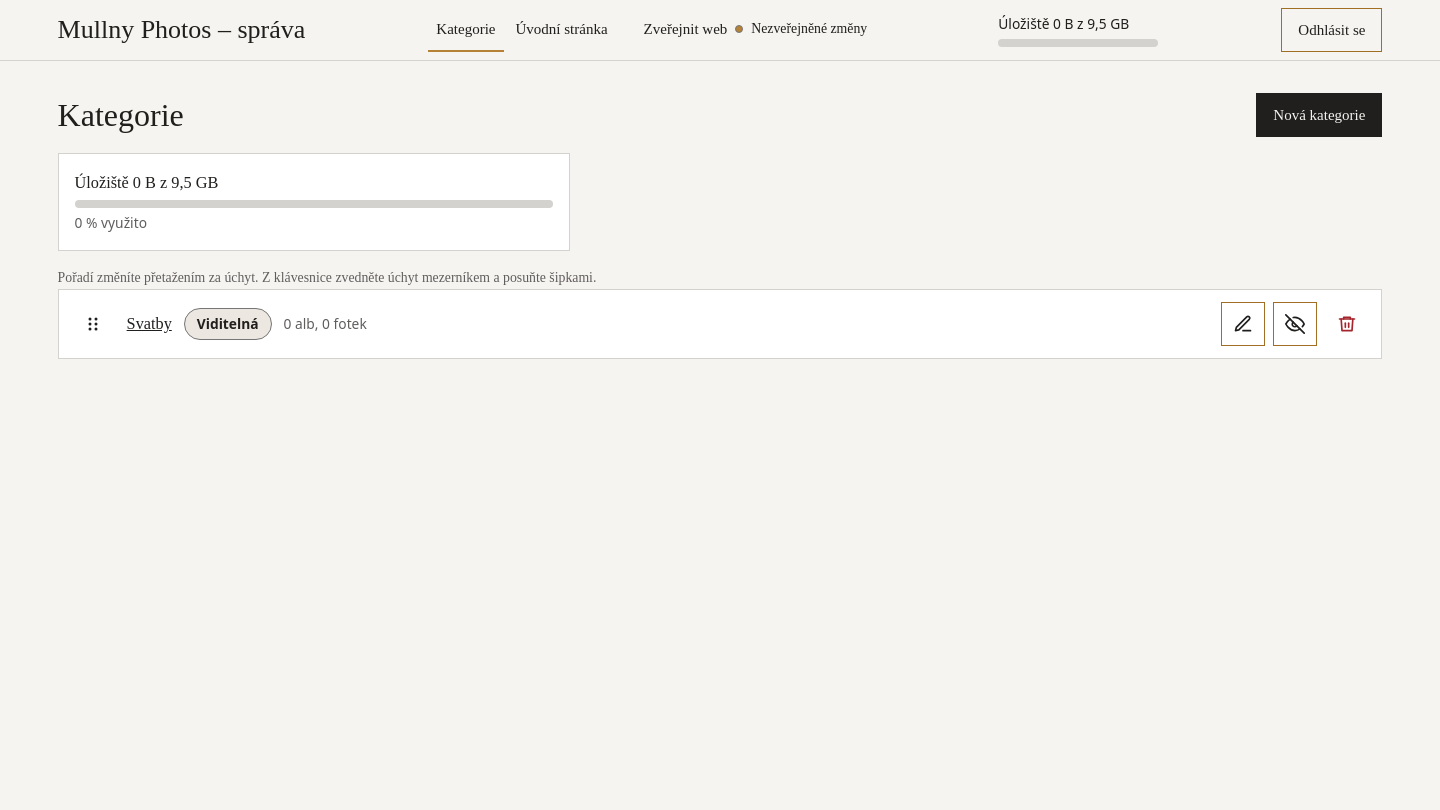
Test: create and edit › edits the name and warns before the address changes
Expected: the heading "Kategorie" is shown, [58, 96, 184, 134]
Expected: the link "Svatby" is shown, [127, 314, 172, 333]
Step 1. Click the button named "Přejmenovat: Svatby" → (1243, 324), box [1221, 302, 1265, 346]
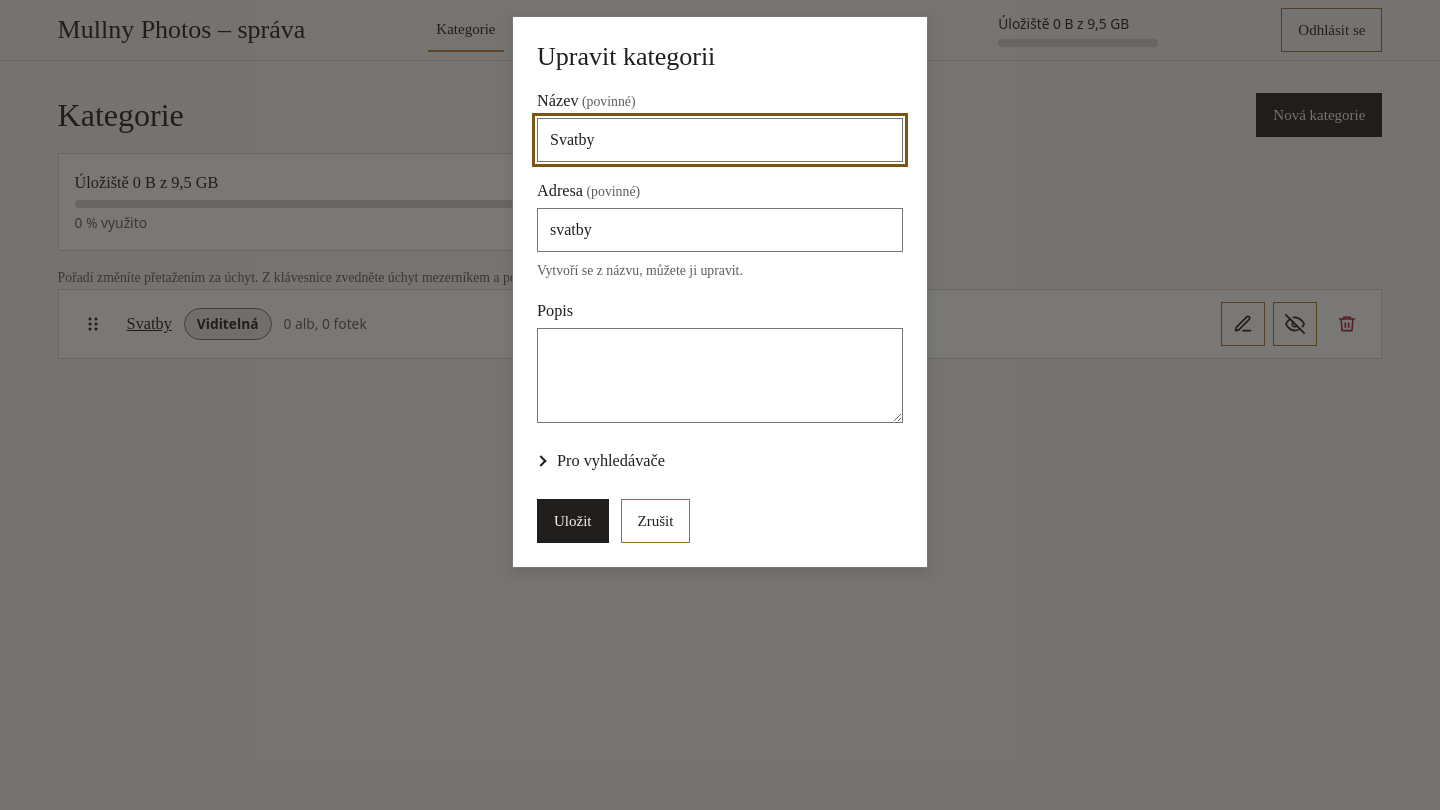
Step 2. Replace the text in the field labelled "Název (povinné)" with "Svatební den" → (720, 140), box [537, 118, 903, 162]
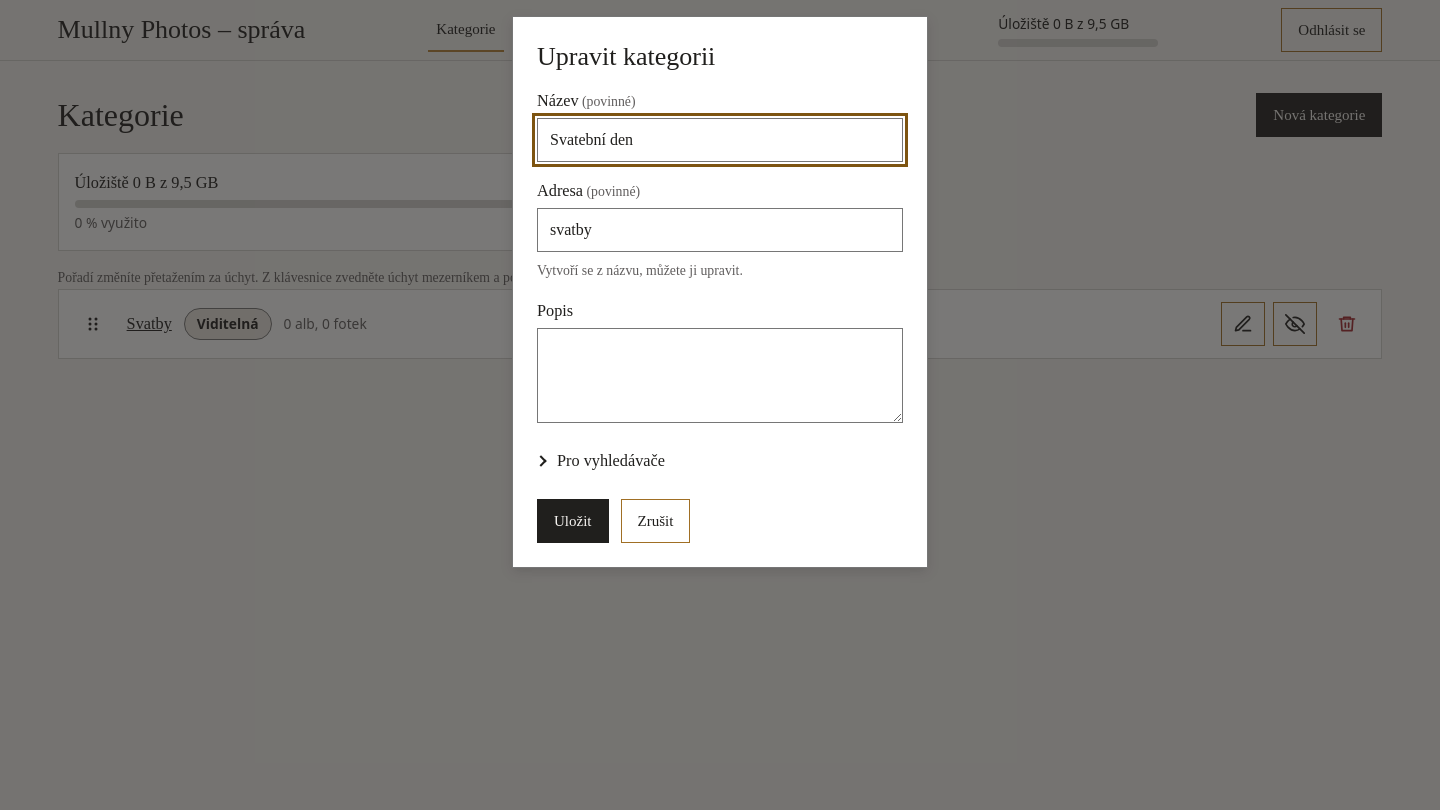
Expected: the text "Změna adresy rozbije stávající odkazy na tuto kategorii a její alba." is not shown
Result: the field labelled "Adresa (povinné)" holds "svatby"
Step 3. Replace the text in the field labelled "Adresa (povinné)" with "svatebni-den" → (720, 230), box [537, 208, 903, 252]
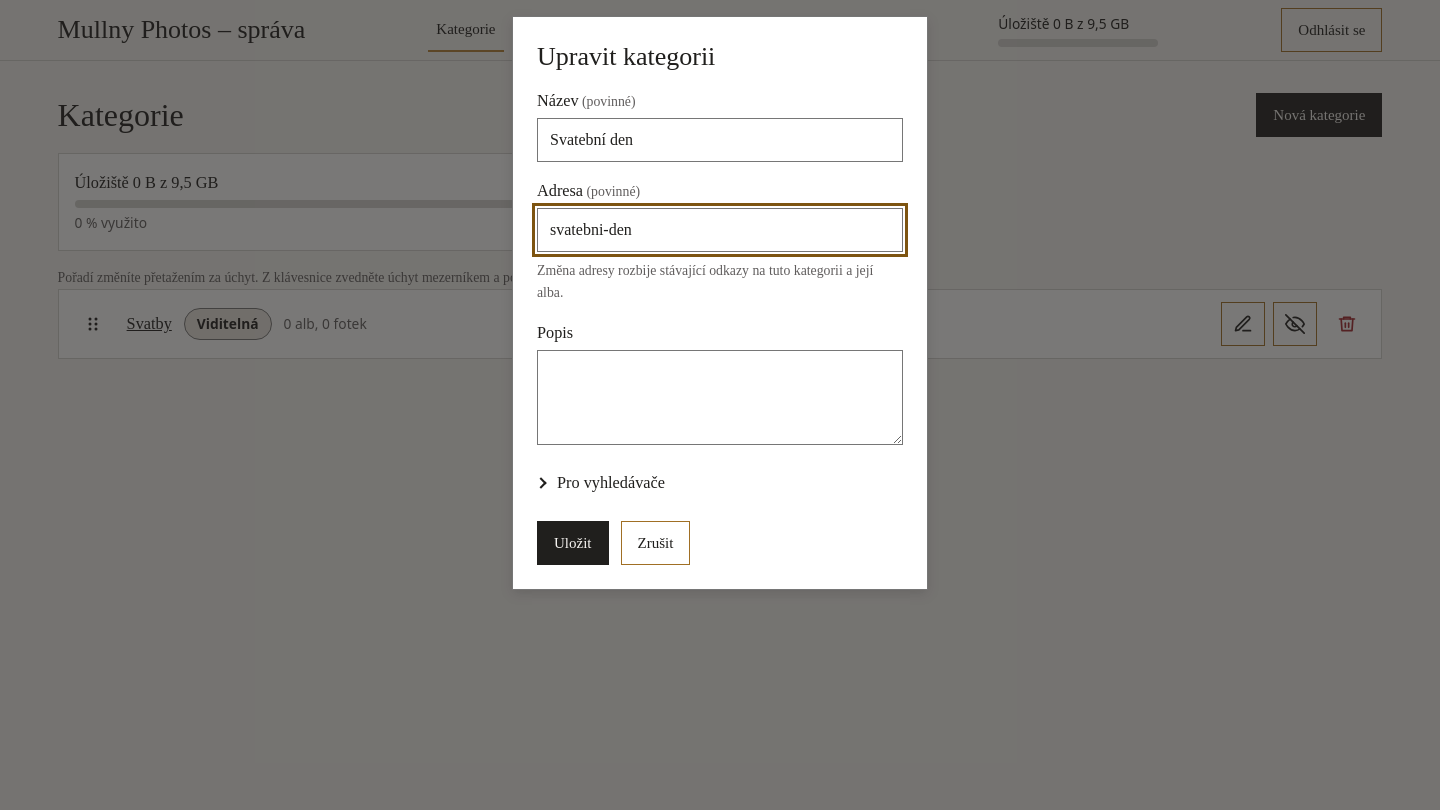
Result: the text "Změna adresy rozbije stávající odkazy na tuto kategorii a její alba." is shown at [537, 260, 903, 304]
Step 4. Click the button "Uložit" → (573, 543), box [537, 521, 608, 565]
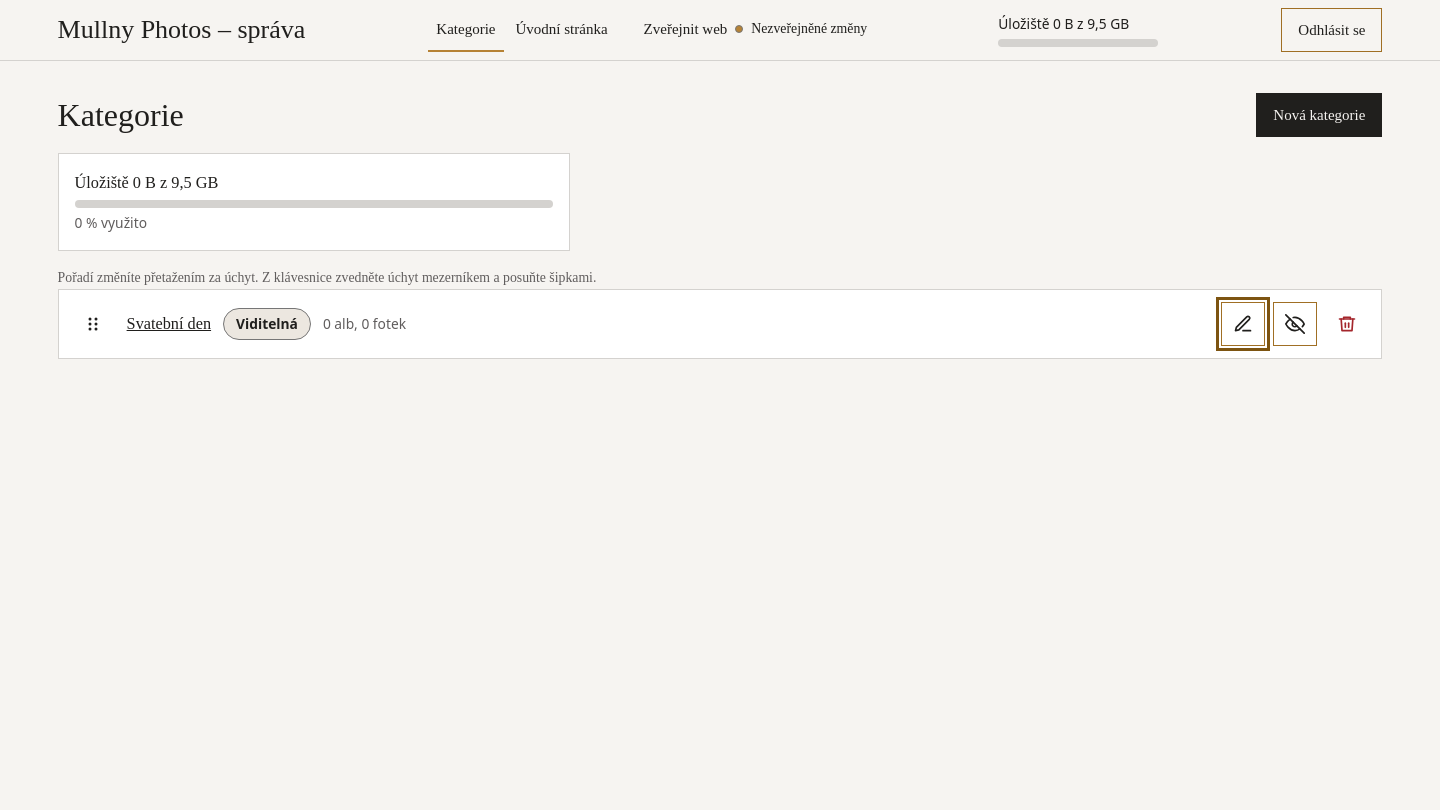
Result: the dialog is gone
Result: the link "Svatební den" is shown at [127, 314, 211, 333]
